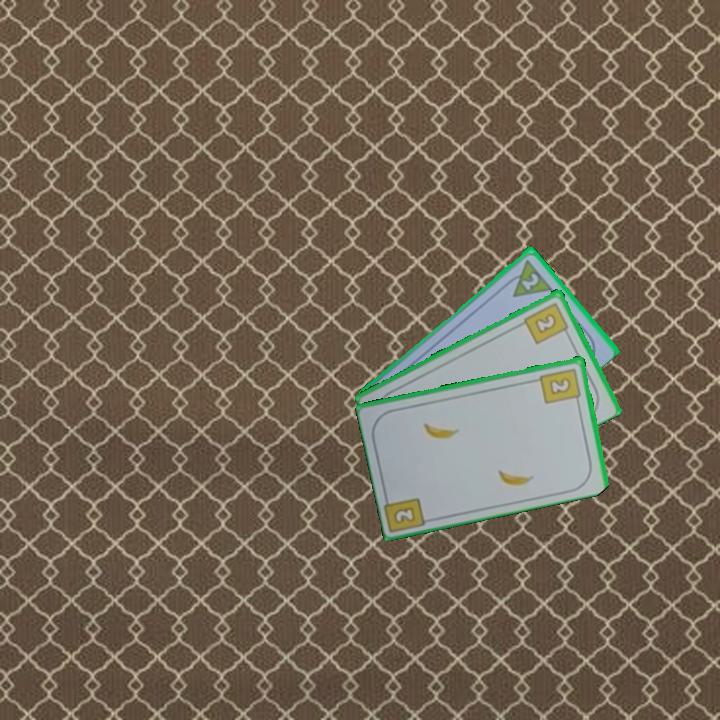2b: (521, 299, 572, 347), (537, 364, 584, 406), (390, 503, 418, 527)
2p: (501, 255, 555, 300)
